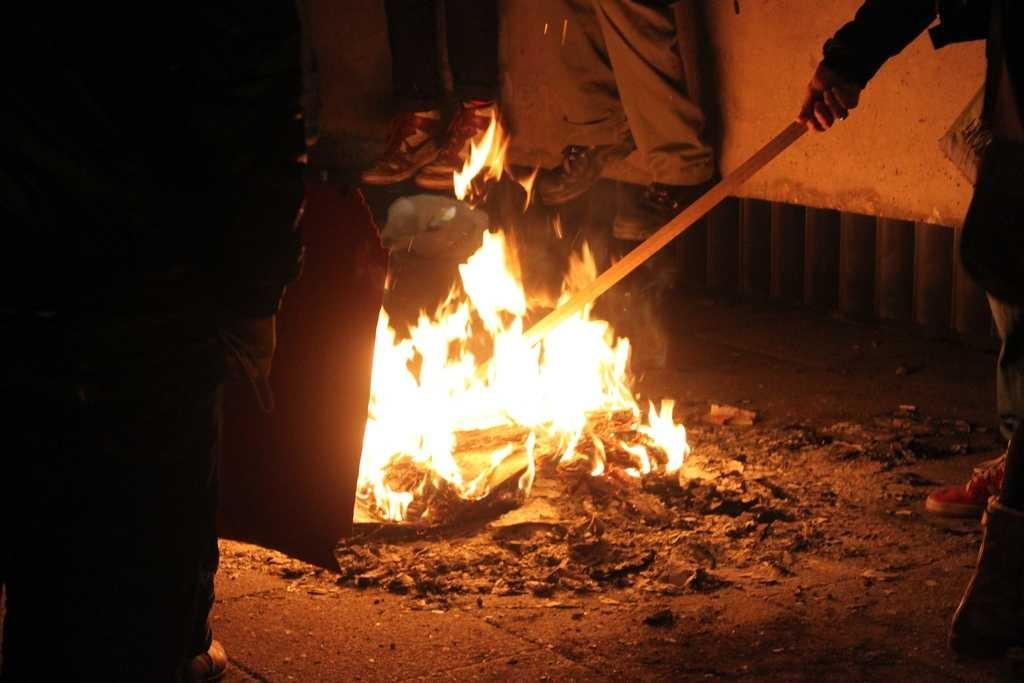fire: (366, 313, 680, 477)
